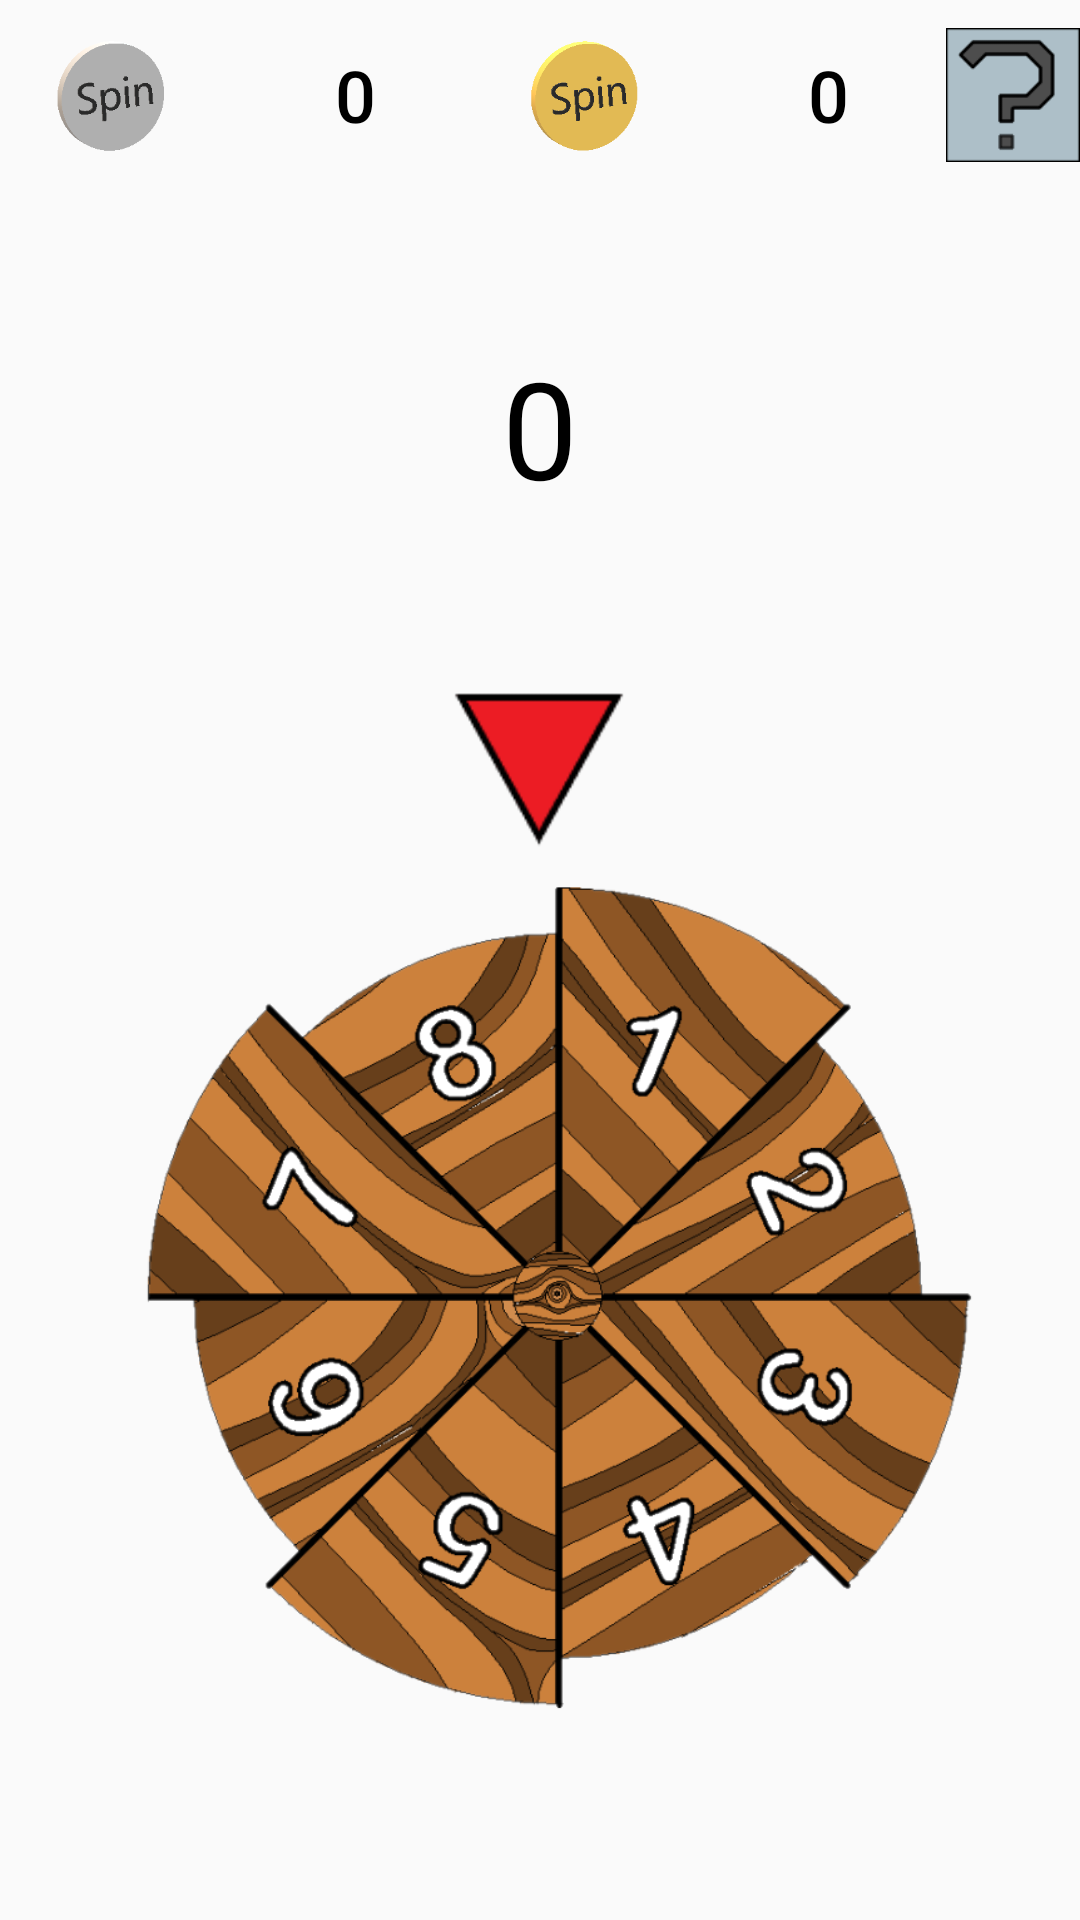

Icons on this 1080*1920 Android screen, each with its box as {"left": x1, "top": y1, "right": x2, "bottom": y2}:
gold coin: {"left": 531, "top": 41, "right": 638, "bottom": 151}
qmark: {"left": 946, "top": 28, "right": 1080, "bottom": 162}
silver coin: {"left": 57, "top": 44, "right": 164, "bottom": 151}
wheelarrow: {"left": 455, "top": 693, "right": 623, "bottom": 845}
